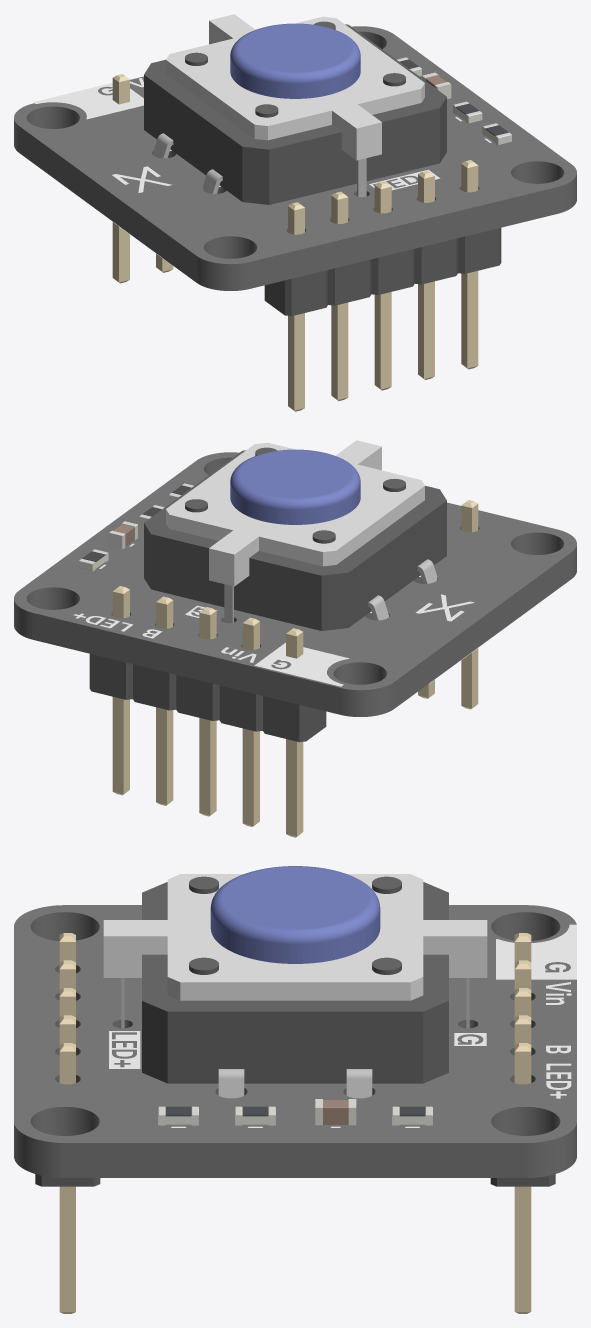
3 views of the same model, one above another, from view 1: azimuth 30°, elevation 25°; view 2: azimuth 150°, elevation 25°; view 3: azimuth 270°, elevation 25° (orthographic). The views are drawn at different scales.
Visible parts, largest first — view 1: Node12, Node11, Node8, Node2, Node1, Node9, Node3, Node10, Node4; view 2: Node12, Node11, Node8, Node2, Node1, Node9, Node3, Node10, Node4; view 3: Node12, Node11, Node8, Node9, Node2, Node3, Node10, Node1, Node4, Node6, Node7, Node5.
Part boxes in pixels (x1,y1,x2,y2): Node12: (14,26,576,290); Node11: (144,21,446,204); Node8: (166,14,424,160); Node2: (112,74,478,411); Node1: (264,228,501,316); Node9: (230,23,360,98); Node3: (33,78,491,257); Node10: (152,133,366,197); Node4: (397,57,511,145); Node12: (14,452,576,716); Node11: (144,447,446,630); Node8: (166,440,424,586); Node2: (112,500,478,837); Node1: (89,654,326,742); Node9: (230,449,360,524); Node3: (73,543,534,686); Node10: (224,559,437,623); Node4: (79,483,193,571); Node12: (14,905,576,1177); Node11: (142,876,448,1083); Node8: (103,874,487,1000); Node9: (210,866,380,963); Node2: (59,933,531,1313); Node3: (109,924,576,1127); Node10: (121,978,469,1098); Node1: (35,1174,555,1186); Node4: (158,1099,432,1125); Node6: (159,1116,431,1124); Node7: (165,1106,425,1116); Node5: (323,1100,348,1124).
Bounding box in the file's own units: 22 × 15.49 × 22.
